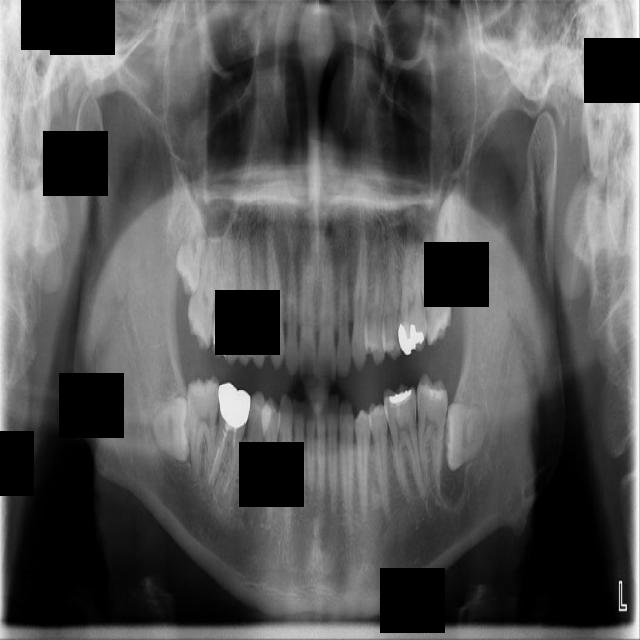3M ESPE Implant: (171, 202, 214, 300)
52: (381, 382, 421, 433), (211, 310, 242, 365), (218, 383, 252, 429), (399, 314, 427, 356)
73: (206, 406, 249, 500), (622, 623, 630, 631)
BioHorizons Implant: (416, 231, 455, 346)
BioLife Implant: (432, 180, 464, 279)
Biomet 3i Implant: (445, 403, 487, 470)
Blue Sky Bio Implant: (417, 374, 448, 493)
Caries: (182, 227, 227, 351)
Implant: (187, 376, 221, 485)
Keystone Dental Implant: (150, 396, 194, 464)
